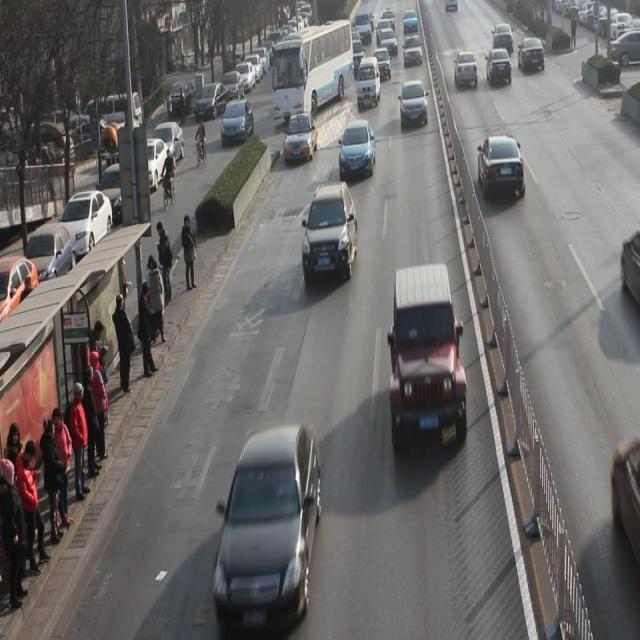car: (214, 420, 324, 640), (389, 267, 469, 452), (302, 181, 358, 287), (478, 135, 525, 200), (338, 121, 376, 182), (285, 111, 319, 165), (400, 80, 430, 132), (608, 28, 640, 68), (520, 35, 546, 76), (454, 51, 478, 92), (487, 48, 512, 86), (402, 35, 424, 70), (493, 22, 514, 54), (373, 49, 392, 83)
truck: (356, 56, 381, 111)
van: (270, 22, 352, 118)
